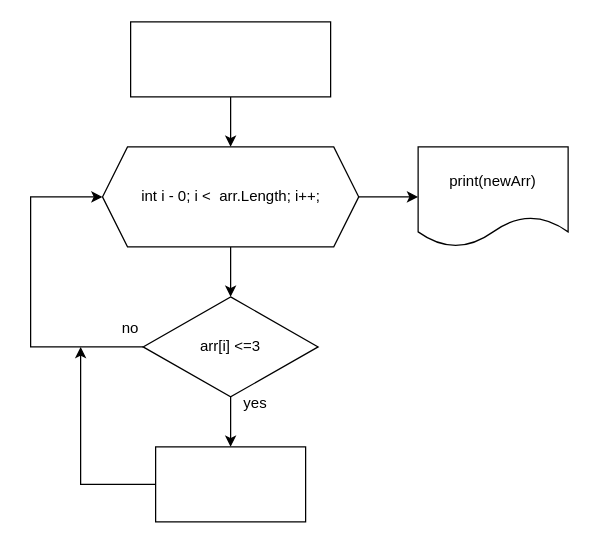
The diagram is 590 pixels wide and 544 high, and some of its shapes have lost their labels. The centre of each missing label's shape, as x and y in pixels:
"arr = [word, word1, word2]; newArr = [arr.length]; int j = 0;" goes at pixel 230 59.
"newArr[j++] = arr[i]" goes at pixel 230 484.
